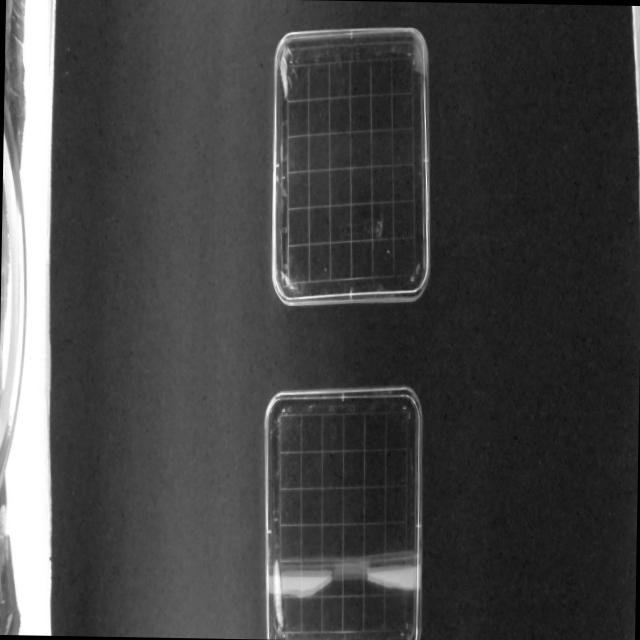larva: (270, 558, 286, 630), (280, 40, 294, 100)
